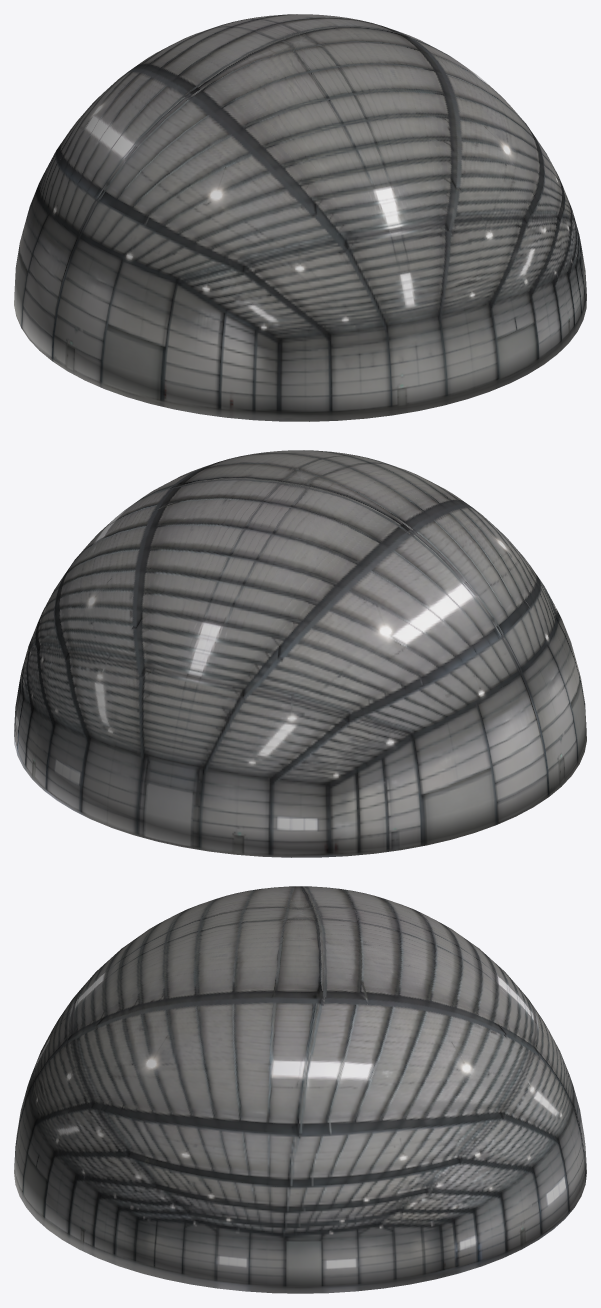
The model's file is skybox-dome1.glb.
The picture shows the model from 3 angles, top to bottom: view 1: azimuth 30°, elevation 25°; view 2: azimuth 150°, elevation 25°; view 3: azimuth 270°, elevation 25°; orthographic projection.
Visible parts, largest first — view 1: Sphere; view 2: Sphere; view 3: Sphere.
Part boxes in pixels (left/top/right/bottom): Sphere: left=14, top=14, right=586, bottom=421; Sphere: left=14, top=450, right=586, bottom=857; Sphere: left=14, top=886, right=586, bottom=1293.
Size of the model in its own units: 60.96 by 30.44 by 60.96.
1 material, 1 textured.
